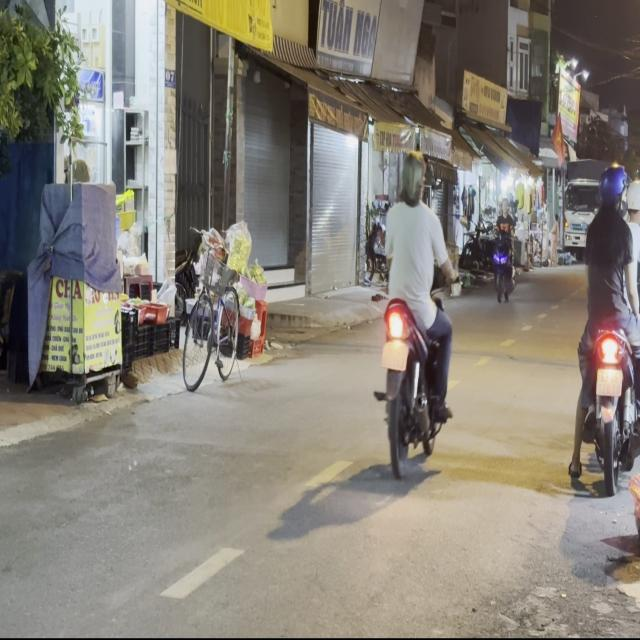helmet: (596, 164, 624, 210), (623, 178, 640, 218)
licenseplate: (374, 149, 455, 475), (566, 160, 640, 491)
motorcyclist: (397, 150, 425, 202)
nohelmet: (381, 341, 407, 368), (596, 367, 620, 395)
